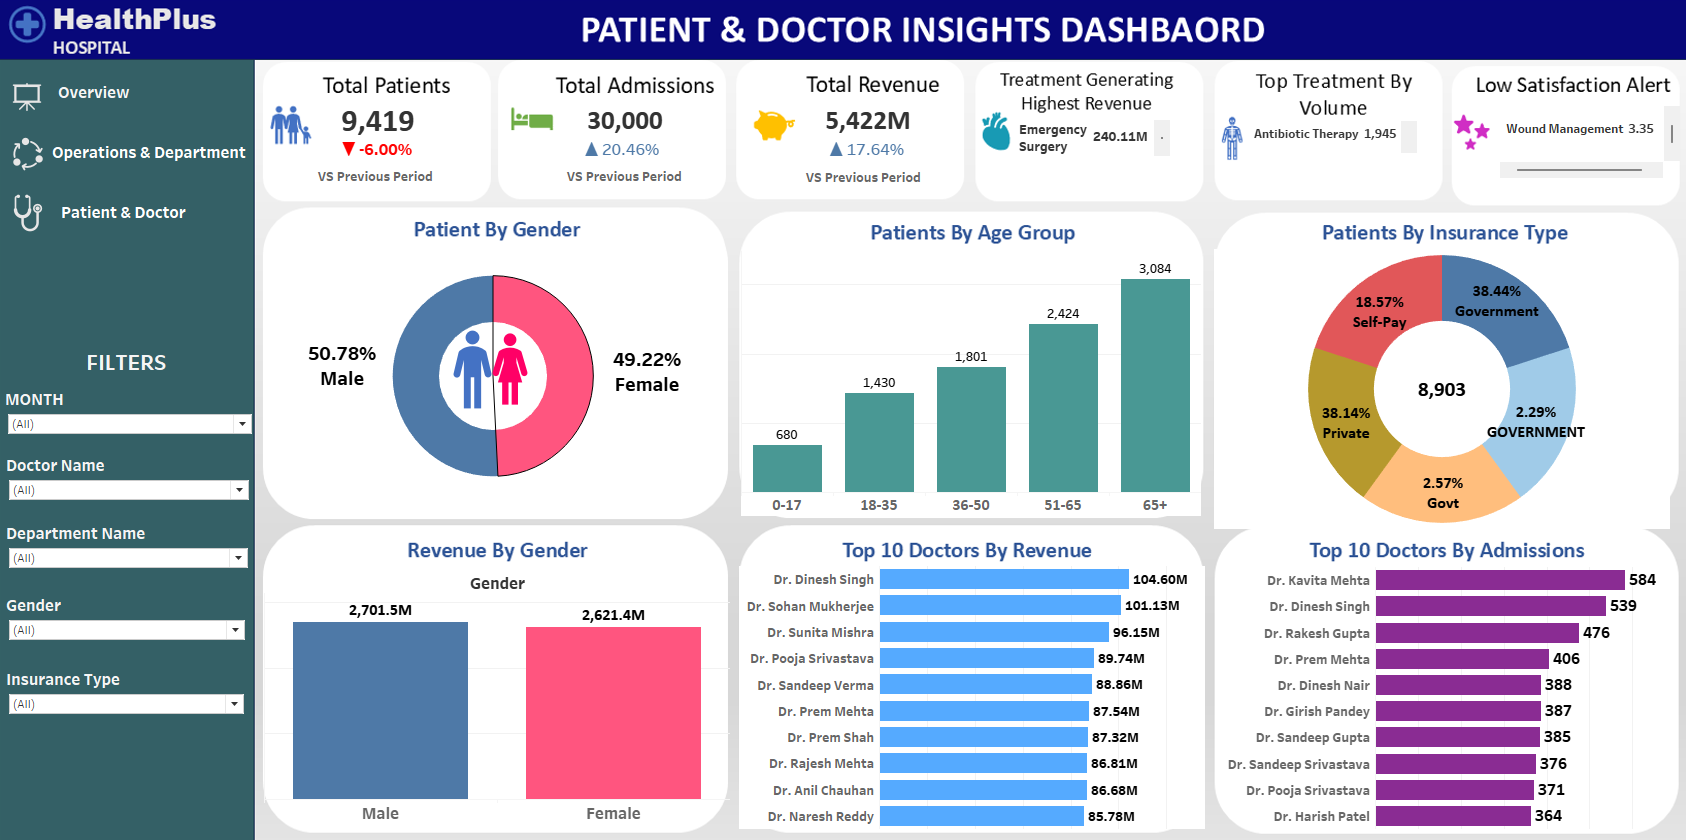

What the dashboard file says about the page in this screenshot:
{"tool":"tableau","page":{"name":"Patient & Doctor","canvas":[1709,856],"ordinal":2},"visuals":[{"type":"image","param":"Image/Presentation3.png","box":[0,0,1709,856]},{"type":"dashboard-object","box":[14,74,172,54]},{"type":"image","param":"Image/Picture1.svg","box":[14,88,38,36]},{"type":"worksheet","title":"Total Revenue","mark":"Automatic","box":[817,105,114,47]},{"type":"worksheet","title":"Total Admissions","mark":"Automatic","box":[564,107,134,43]},{"type":"worksheet","title":"Total Patients","mark":"Automatic","box":[309,110,150,40]},{"type":"worksheet","title":"Low Satisfaction Alert","mark":"Automatic","rows":["Treatment_Type"],"box":[1506,115,180,72]},{"type":"worksheet","title":"Treatment Generating Highest Rev","mark":"Automatic","rows":["Treatment_Type"],"box":[1019,129,178,36]},{"type":"worksheet","title":"Top Treatment By Vollume","mark":"Automatic","rows":["Treatment_Type"],"box":[1254,130,190,32]},{"type":"dashboard-object","box":[38,133,234,56]},{"type":"worksheet","title":"Total Admission Growth","mark":"Automatic","box":[579,135,98,46]},{"type":"image","param":"Image/Picture2.svg","box":[11,138,44,50]},{"type":"worksheet","title":"Patients Growth","mark":"Automatic","box":[330,139,106,38]},{"type":"worksheet","title":"Revenue Growth","mark":"Automatic","box":[820,139,101,37]},{"type":"text","box":[321,170,121,30]},{"type":"text","box":[570,170,121,30]},{"type":"text","box":[809,171,121,30]},{"type":"dashboard-object","box":[26,197,206,49]},{"type":"image","param":"Image/Picture3.svg","box":[14,202,40,41]},{"type":"worksheet","title":"Patients By Gender","mark":"Pie","rows":["Calculation_2025493941626970118","Calculation_2025493941626970118"],"box":[265,250,468,270]},{"type":"worksheet","title":"Patients By Insurance Type ","mark":"Pie","rows":["Calculation_2025493941634174987","Calculation_2025493941634174987"],"box":[1220,258,456,280]},{"type":"worksheet","title":"Patients By Age Group","mark":"Automatic","rows":["Patient_ID"],"cols":["Calculation_2025493941631164423"],"box":[747,260,460,265]},{"type":"image","param":"Image/Picture2 1.svg","box":[437,337,83,131]},{"type":"image","param":"Image/Picture1 1.svg","box":[478,340,76,84]},{"type":"text","box":[5,351,255,39]},{"type":"filter","title":"Total Patients","param":"[federated.0m1gyx91rqx2dw12bt20d0494kdl].[mn:Admission_Date:ok]","box":[11,397,250,51]},{"type":"filter","title":"Total Patients","param":"[federated.0m1gyx91rqx2dw12bt20d0494kdl].[none:Doctor_Name:nk]","box":[12,463,246,50]},{"type":"filter","title":"Total Patients","param":"[federated.0m1gyx91rqx2dw12bt20d0494kdl].[none:Department_Name:nk]","box":[12,531,245,49]},{"type":"worksheet","title":"Top 10 Doct By Rev","mark":"Automatic","rows":["Doctor_Name"],"cols":["Revenue"],"box":[745,575,466,263]},{"type":"worksheet","title":"Top 10 Doctor By Admission","mark":"Automatic","rows":["Doctor_Name"],"cols":["Admission_ID"],"box":[1221,576,458,262]},{"type":"worksheet","title":"Revenue By Gender","mark":"Automatic","rows":["Revenue"],"cols":["Gender"],"box":[270,582,466,252]},{"type":"filter","title":"Total Patients","param":"[federated.0m1gyx91rqx2dw12bt20d0494kdl].[none:Gender:nk]","box":[12,603,242,49]},{"type":"filter","title":"Total Patients","param":"[federated.0m1gyx91rqx2dw12bt20d0494kdl].[none:Insurance_Type:nk]","box":[12,677,241,49]}]}

Visuals, with their boxes in screenshot pixels (x1, y1, x2, y2), scaled from the page's 1709x856 canvas onto the 1686x840 screenshot:
image: 0,0,1685,839
dashboard-object: 14,73,183,126
image: 14,86,51,122
"Total Revenue" worksheet: 806,103,918,149
"Total Admissions" worksheet: 556,105,689,147
"Total Patients" worksheet: 305,108,453,147
"Low Satisfaction Alert" worksheet: 1486,113,1663,184
"Treatment Generating Highest Rev" worksheet: 1005,127,1181,162
"Top Treatment By Vollume" worksheet: 1237,128,1425,159
dashboard-object: 37,131,268,185
"Total Admission Growth" worksheet: 571,132,668,178
image: 11,135,54,184
"Patients Growth" worksheet: 326,136,430,174
"Revenue Growth" worksheet: 809,136,909,173
text: 317,167,436,196
text: 562,167,682,196
text: 798,168,917,197
dashboard-object: 26,193,229,241
image: 14,198,53,238
"Patients By Gender" worksheet (Pie marks): 261,245,723,510
"Patients By Insurance Type " worksheet (Pie marks): 1204,253,1653,528
"Patients By Age Group" worksheet: 737,255,1191,515
image: 431,331,513,459
image: 472,334,547,416
text: 5,344,257,383
"Total Patients" filter: 11,390,257,440
"Total Patients" filter: 12,454,255,503
"Total Patients" filter: 12,521,254,569
"Top 10 Doct By Rev" worksheet: 735,564,1195,822
"Top 10 Doctor By Admission" worksheet: 1205,565,1656,822
"Revenue By Gender" worksheet: 266,571,726,818
"Total Patients" filter: 12,592,251,640
"Total Patients" filter: 12,664,250,712
